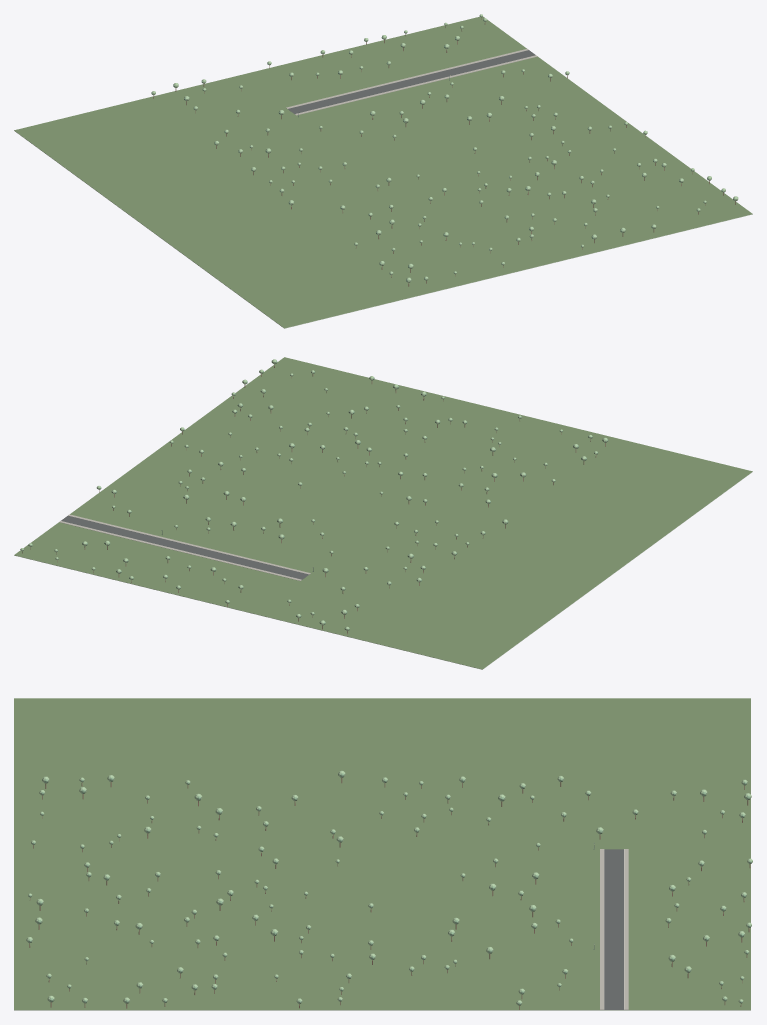
Rendered from chunk_0_4_high.glb.
The picture shows the model from 3 angles, top to bottom: view 1: azimuth 30°, elevation 25°; view 2: azimuth 150°, elevation 25°; view 3: azimuth 270°, elevation 25°; orthographic projection. The views are drawn at different scales.
Visible parts, largest first — view 1: city_forest_floor, city_foliage, city_world_asphalt, city_world_sidewalk, city_foliage_dark, city_grass, city_bark; view 2: city_forest_floor, city_foliage, city_world_asphalt, city_world_sidewalk, city_foliage_dark, city_grass, city_bark; view 3: city_forest_floor, city_foliage, city_world_asphalt, city_foliage_dark, city_world_sidewalk, city_bark, city_grass.
Boxes of the visible parts, bbox=[...] form: city_forest_floor: bbox=[14, 16, 752, 328]; city_foliage: bbox=[152, 14, 738, 282]; city_world_asphalt: bbox=[288, 50, 535, 113]; city_world_sidewalk: bbox=[286, 48, 537, 115]; city_foliage_dark: bbox=[151, 15, 738, 282]; city_grass: bbox=[14, 130, 752, 328]; city_bark: bbox=[153, 17, 735, 286]; city_forest_floor: bbox=[14, 357, 752, 669]; city_foliage: bbox=[20, 359, 607, 630]; city_world_asphalt: bbox=[61, 516, 308, 579]; city_world_sidewalk: bbox=[59, 514, 310, 580]; city_foliage_dark: bbox=[20, 360, 608, 629]; city_grass: bbox=[14, 472, 752, 669]; city_bark: bbox=[22, 364, 605, 634]; city_forest_floor: bbox=[14, 698, 750, 1009]; city_foliage: bbox=[26, 770, 752, 1005]; city_world_asphalt: bbox=[604, 849, 623, 1009]; city_foliage_dark: bbox=[28, 773, 751, 1005]; city_world_sidewalk: bbox=[600, 849, 628, 1009]; city_bark: bbox=[29, 777, 750, 1009]; city_grass: bbox=[14, 1010, 750, 1010].
Bounding box in the file's own units: 514 × 9.79 × 513.
